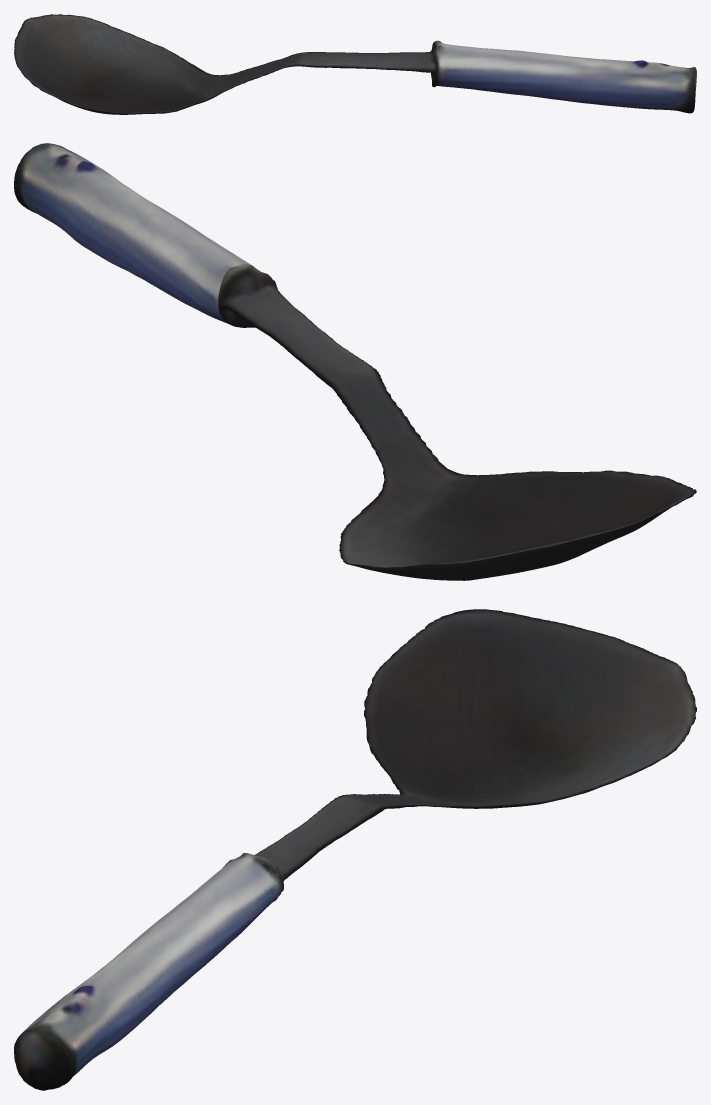
File: obj06_ours.glb
3 views of the same model, one above another, from view 1: azimuth 30°, elevation 25°; view 2: azimuth 150°, elevation 25°; view 3: azimuth 270°, elevation 25° (orthographic). The views are drawn at different scales.
Parts seen in each view (by area): view 1: n1; view 2: n1; view 3: n1.
Part boxes in pixels (x1,y1,x2,y2): n1: (14, 14, 696, 114); n1: (14, 143, 696, 580); n1: (14, 609, 696, 1090).
Size of the model in its own units: 0.8979 by 0.102 by 0.6435.
